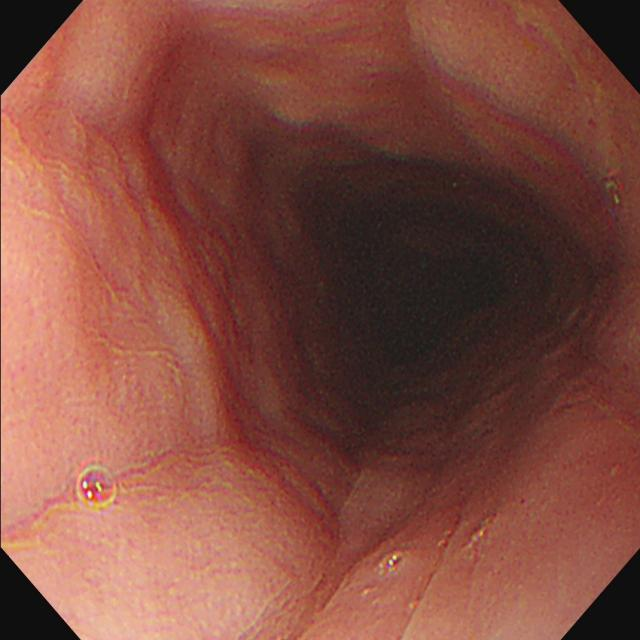E: (290, 163, 557, 419)
T: (76, 465, 121, 513)
